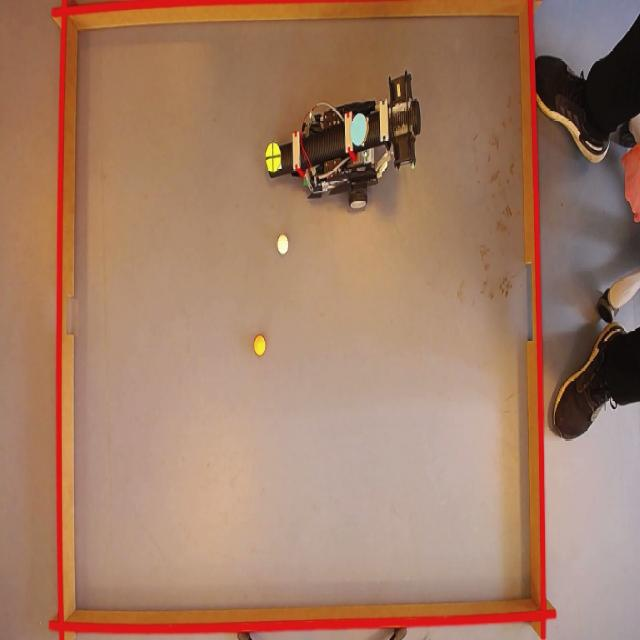orange: (253, 335, 268, 356)
robot: (269, 89, 424, 209)
robot-front: (265, 141, 281, 173)
robot-rear: (348, 110, 367, 148)
white: (275, 234, 289, 254)
